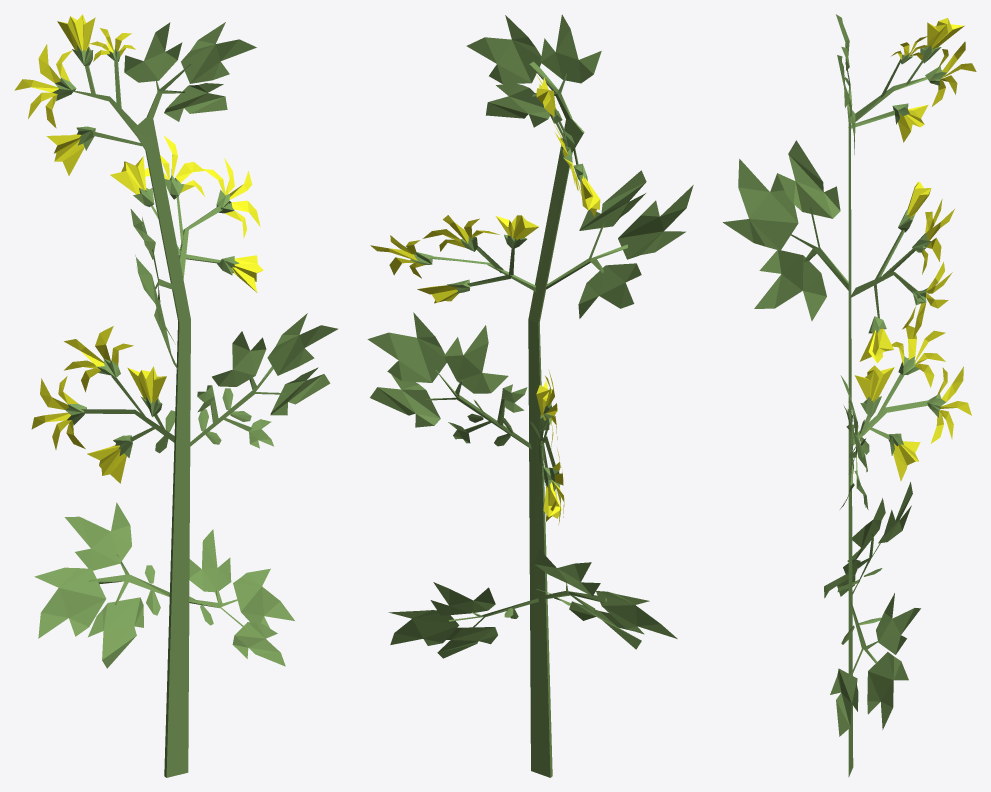
The model's file is Tomatos_4.fbx.
3 views of the same model, side by side, from view 1: azimuth 30°, elevation 25°; view 2: azimuth 150°, elevation 25°; view 3: azimuth 270°, elevation 25° (orthographic).
Parts seen in each view (by area): view 1: Tomato_4; view 2: Tomato_4; view 3: Tomato_4.
Boxes of the visible parts, left/top/right/bottom form: Tomato_4: left=14, top=14, right=337, bottom=777; Tomato_4: left=367, top=14, right=693, bottom=777; Tomato_4: left=723, top=14, right=976, bottom=777.
Size of the model in its own units: 54.75 by 130 by 39.88.
